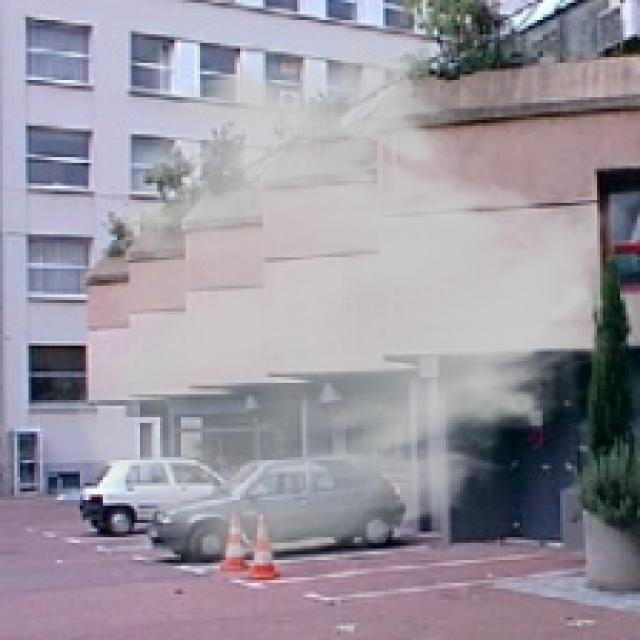smoke: (71, 32, 632, 577)
